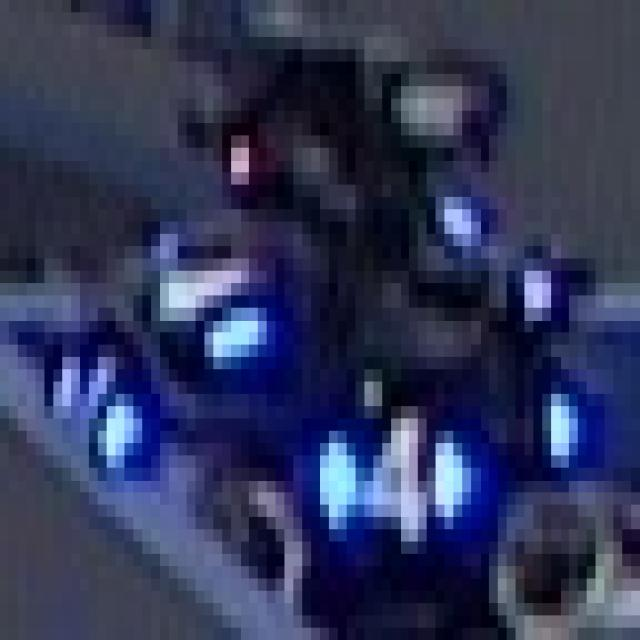B4: (293, 382, 471, 542)
